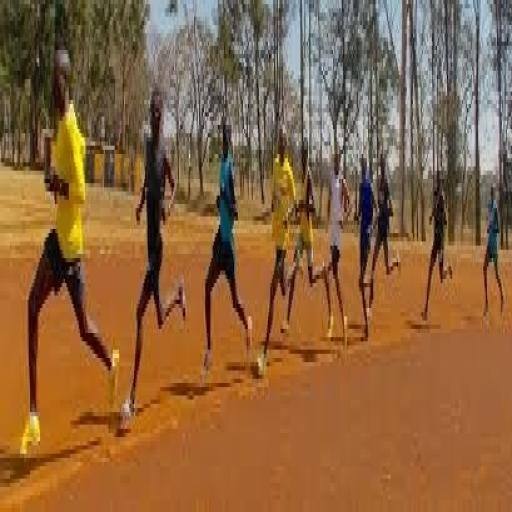running: (19, 42, 121, 462), (119, 79, 189, 437), (199, 108, 255, 387), (419, 158, 456, 329), (479, 175, 507, 329)
